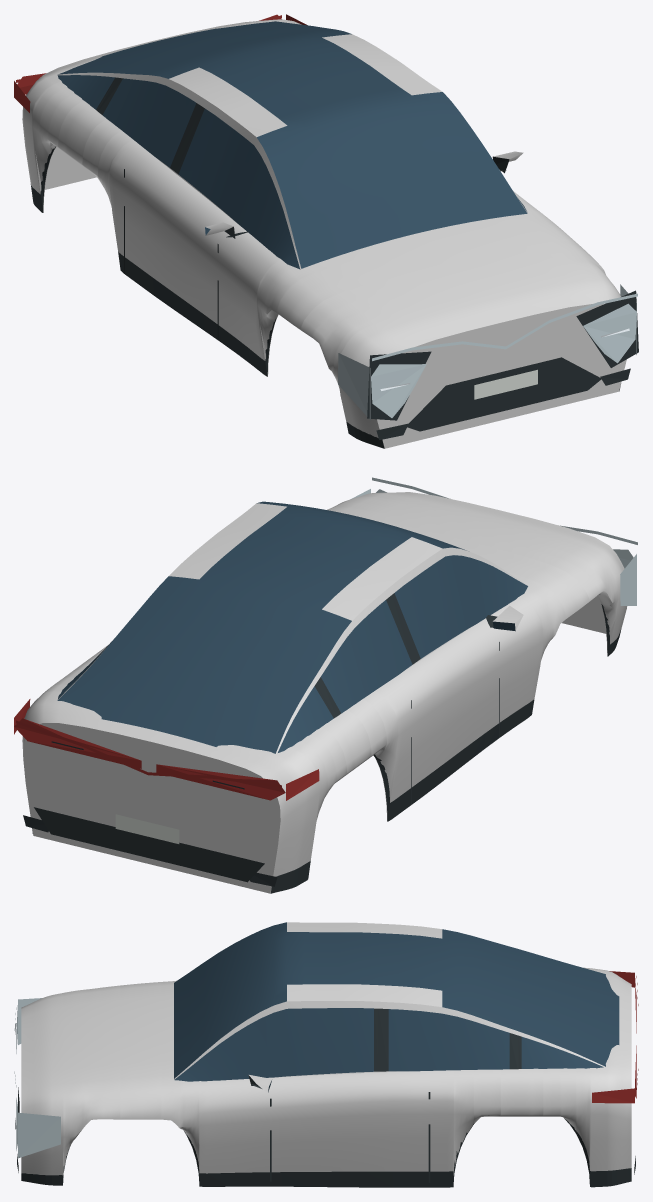
Rendered from veh_vf7-lod0.glb.
3 renders of one model, top to bottom at view 1: azimuth 30°, elevation 25°; view 2: azimuth 150°, elevation 25°; view 3: azimuth 270°, elevation 25°, orthographic. The views are drawn at different scales.
Parts seen in each view (by area): view 1: paint, glass, trim, head, plate, tail; view 2: paint, glass, trim, tail, head, plate; view 3: paint, glass, trim, head, tail.
Boxes of the visible parts, x1,y1,x2,y2 form: paint: (22, 19, 626, 448); glass: (57, 21, 527, 269); trim: (30, 77, 638, 448); head: (338, 284, 637, 420); plate: (474, 369, 537, 399); tail: (14, 14, 307, 112); paint: (22, 492, 627, 893); glass: (57, 501, 527, 753); trim: (23, 593, 621, 893); tail: (14, 699, 319, 800); head: (350, 477, 637, 605); plate: (115, 814, 179, 843); paint: (21, 922, 631, 1176); glass: (174, 922, 619, 1092); trim: (17, 1008, 635, 1187); head: (14, 998, 60, 1158); tail: (592, 971, 638, 1103).
Bounding box in the file's own units: 1.57 × 0.965 × 3.11.
